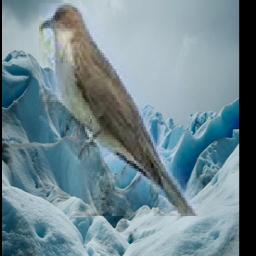Cuckoo: (39, 4, 198, 217)
